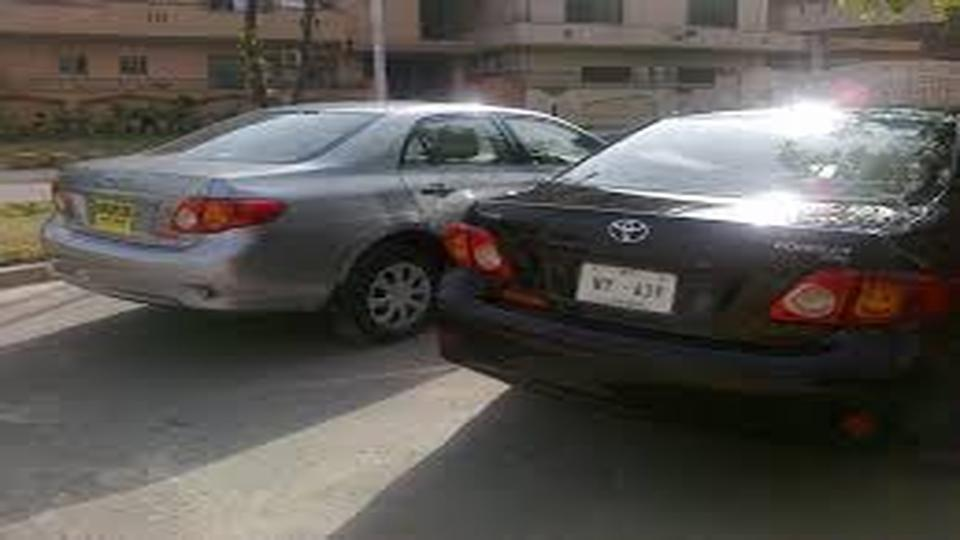NumberPlate: (575, 254, 685, 323), (76, 197, 135, 238)
